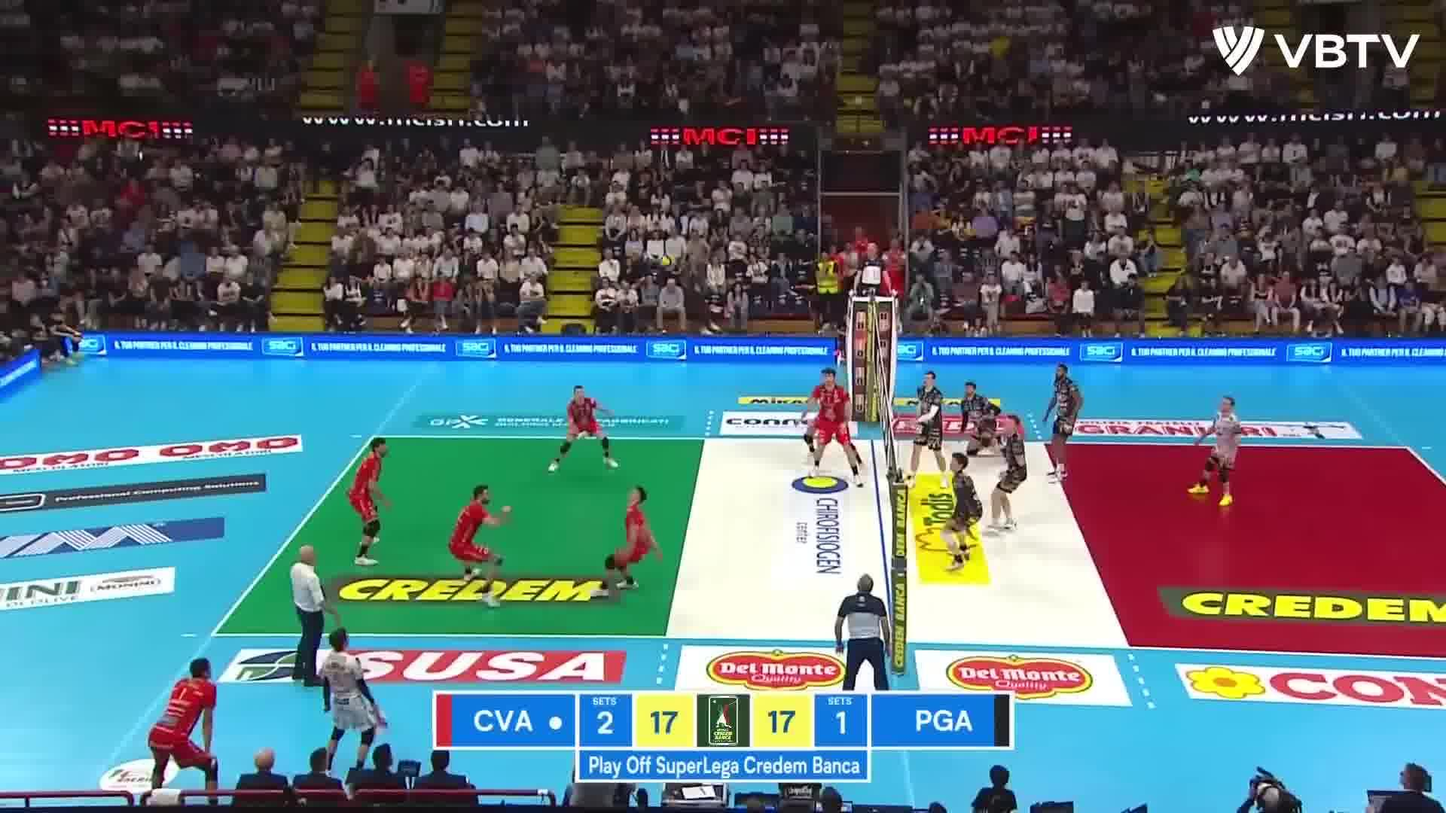balls: (656, 252, 679, 272)
